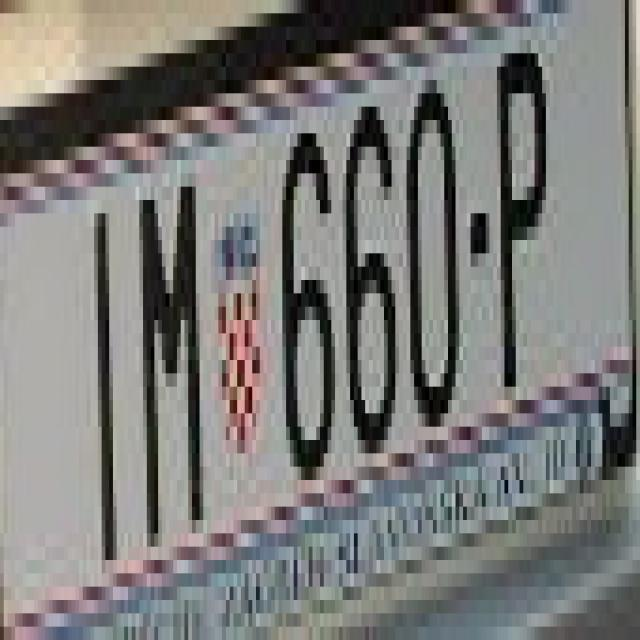0: (399, 66, 456, 426)
6: (268, 134, 332, 454), (346, 80, 399, 440)
M: (136, 174, 200, 534)
P: (490, 40, 550, 413)
